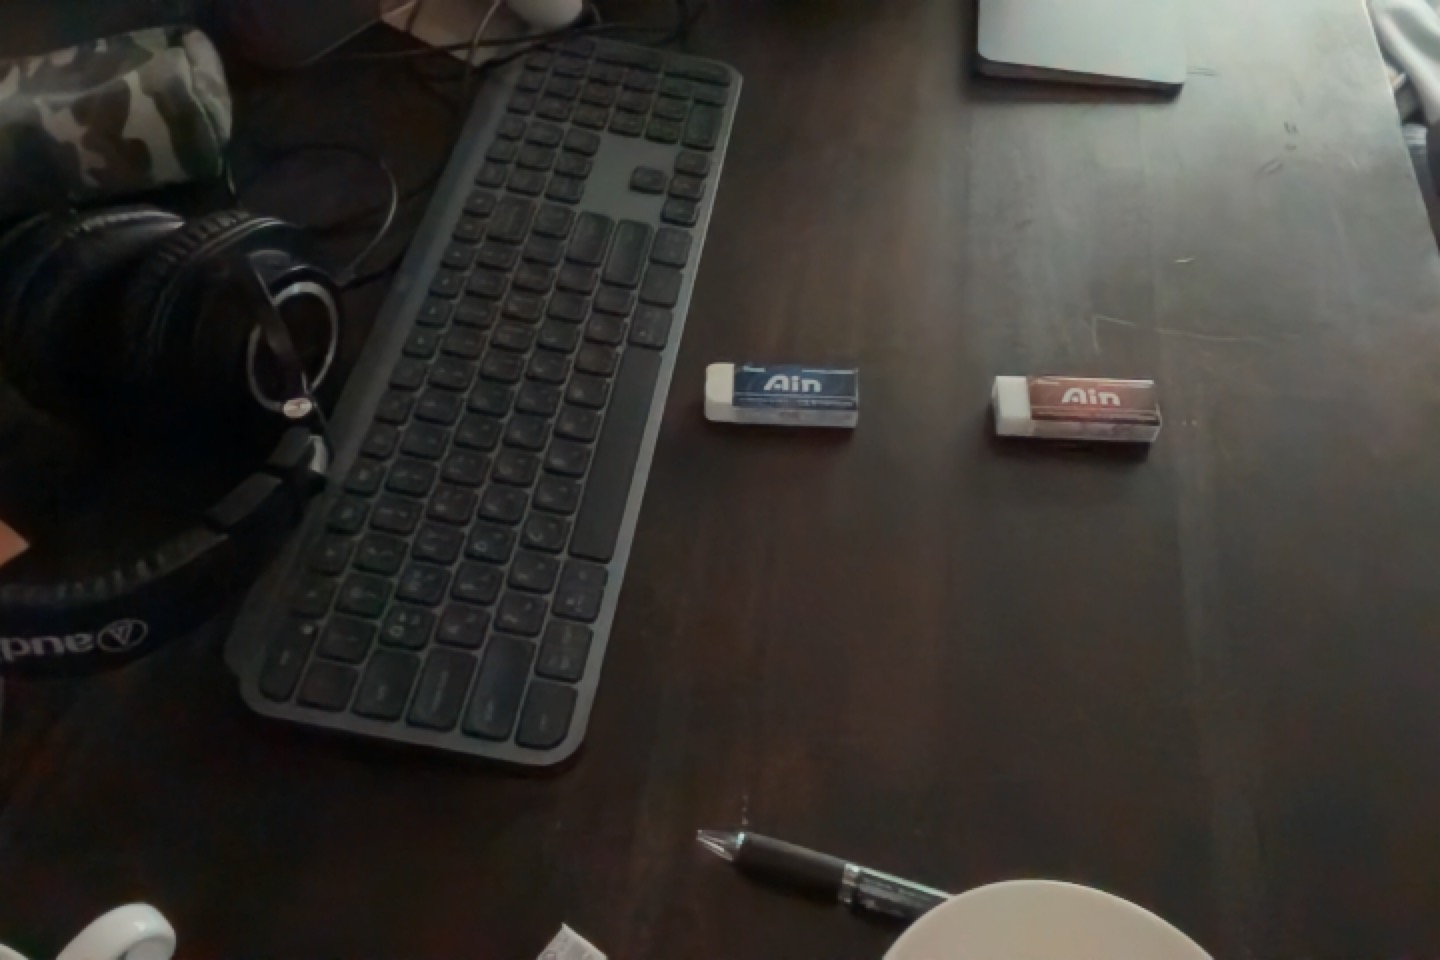blue: (694, 350, 875, 441)
red: (978, 358, 1177, 456)
